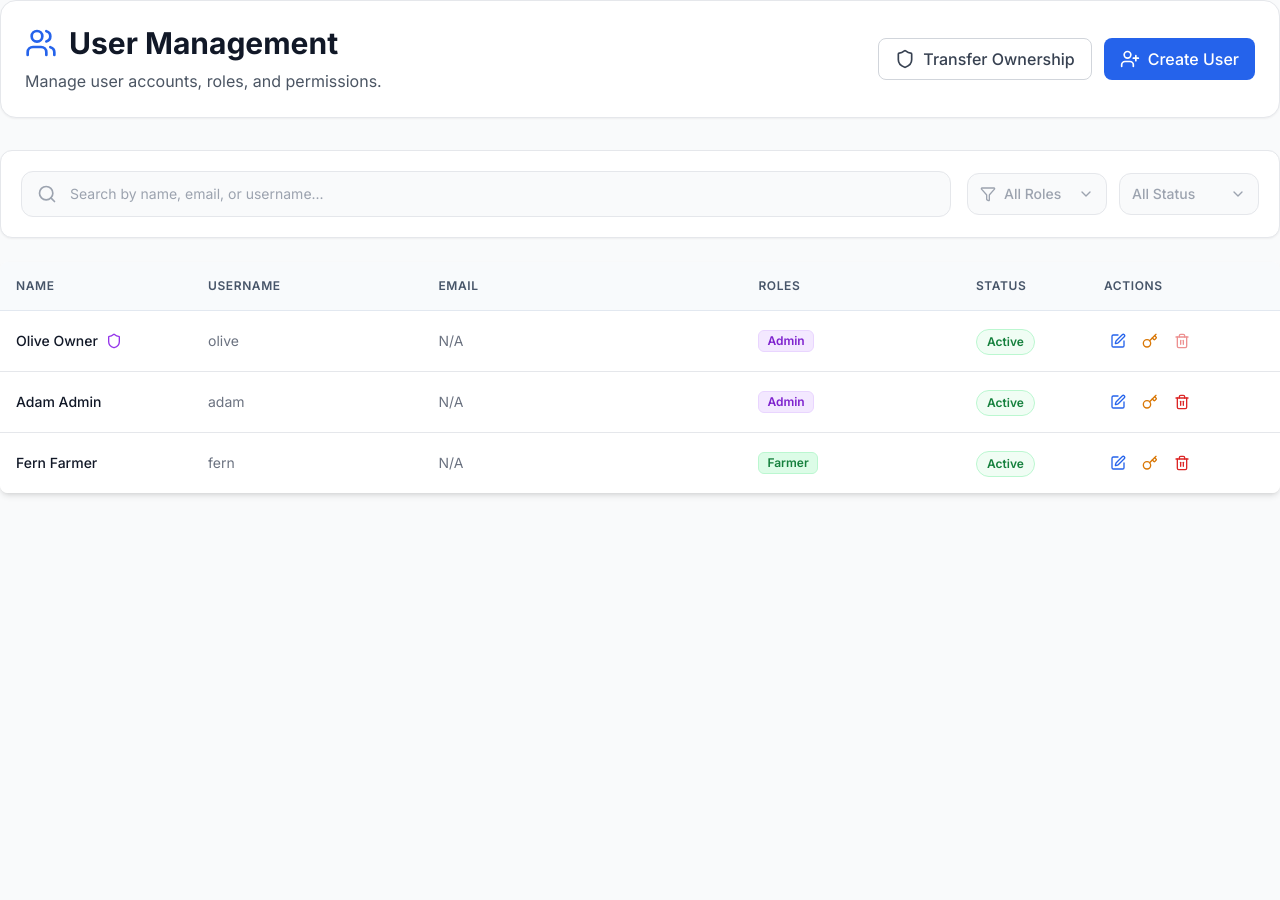
User Management popups render on <body> › the create user popup
The width and height of the screenshot is (1280, 900).
Expected: the text "Fern Farmer" is shown, x1=16 y1=453 x2=97 y2=473
Click the button "Create User".
click(1179, 59)  # box x1=1104 y1=38 x2=1255 y2=80
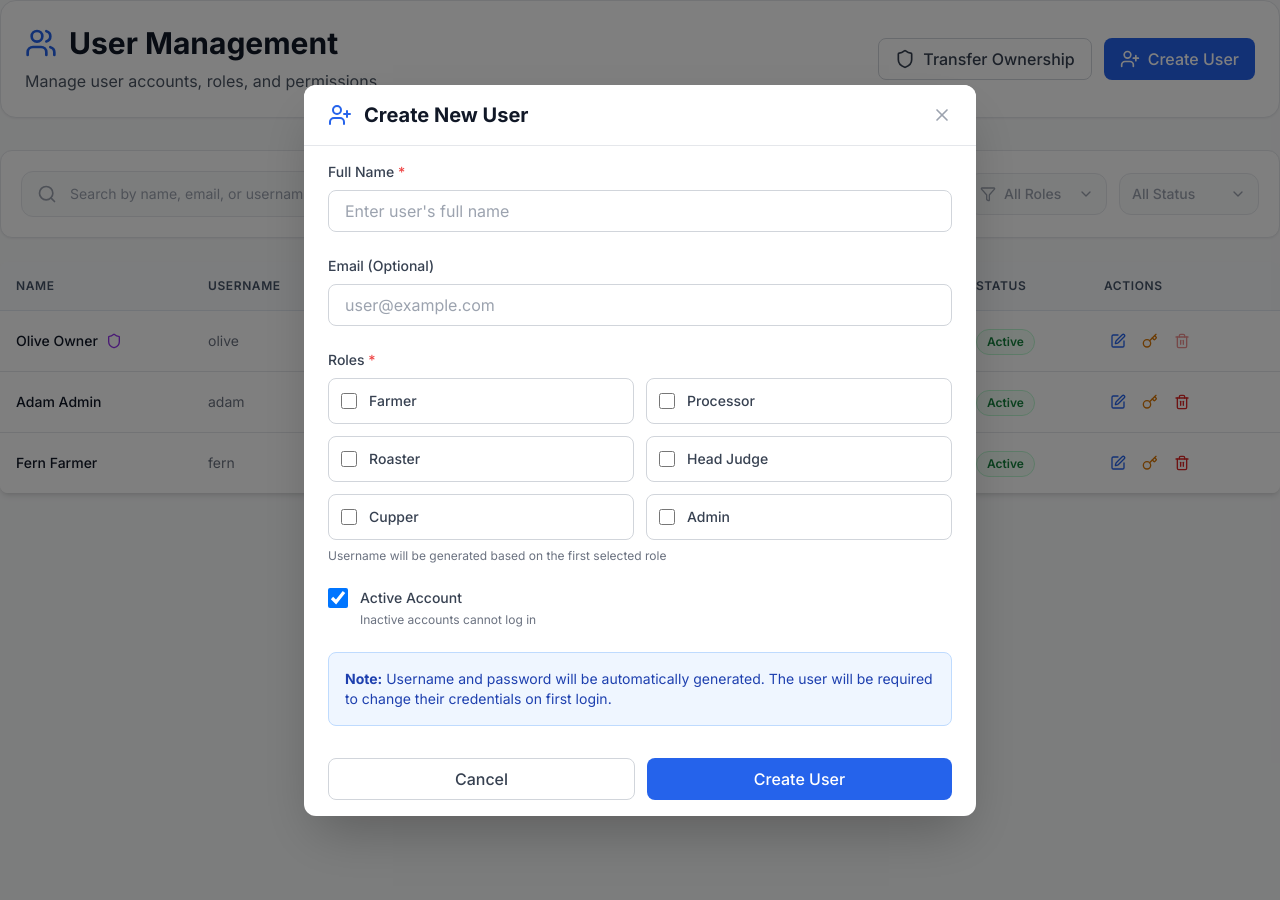
Result: the text "Create New User" is shown at x1=364 y1=100 x2=528 y2=128
